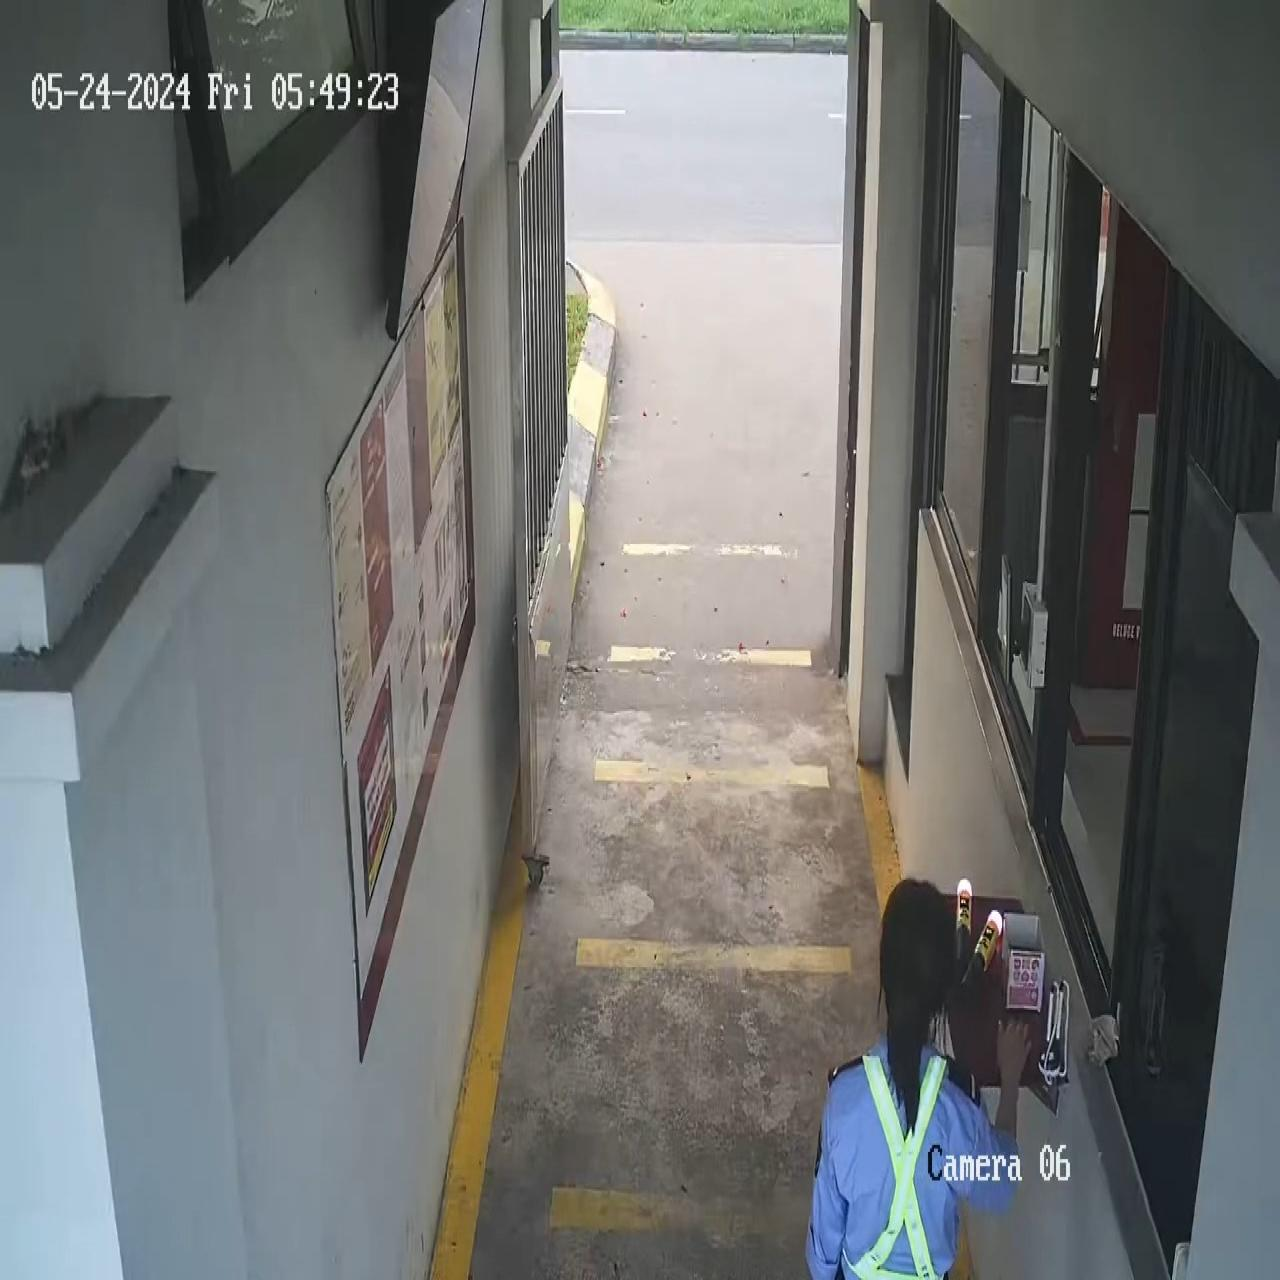breathalyzer: (961, 896, 1002, 988), (949, 863, 973, 969)
guard: (803, 874, 1032, 1276)
